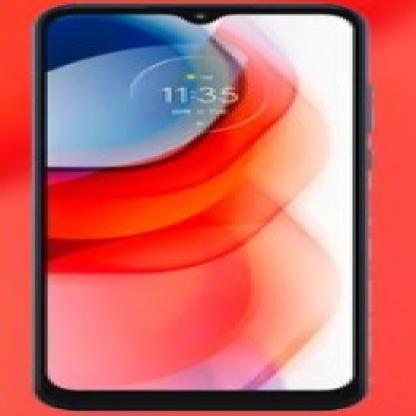SMARTPHONE: (28, 2, 378, 414)
